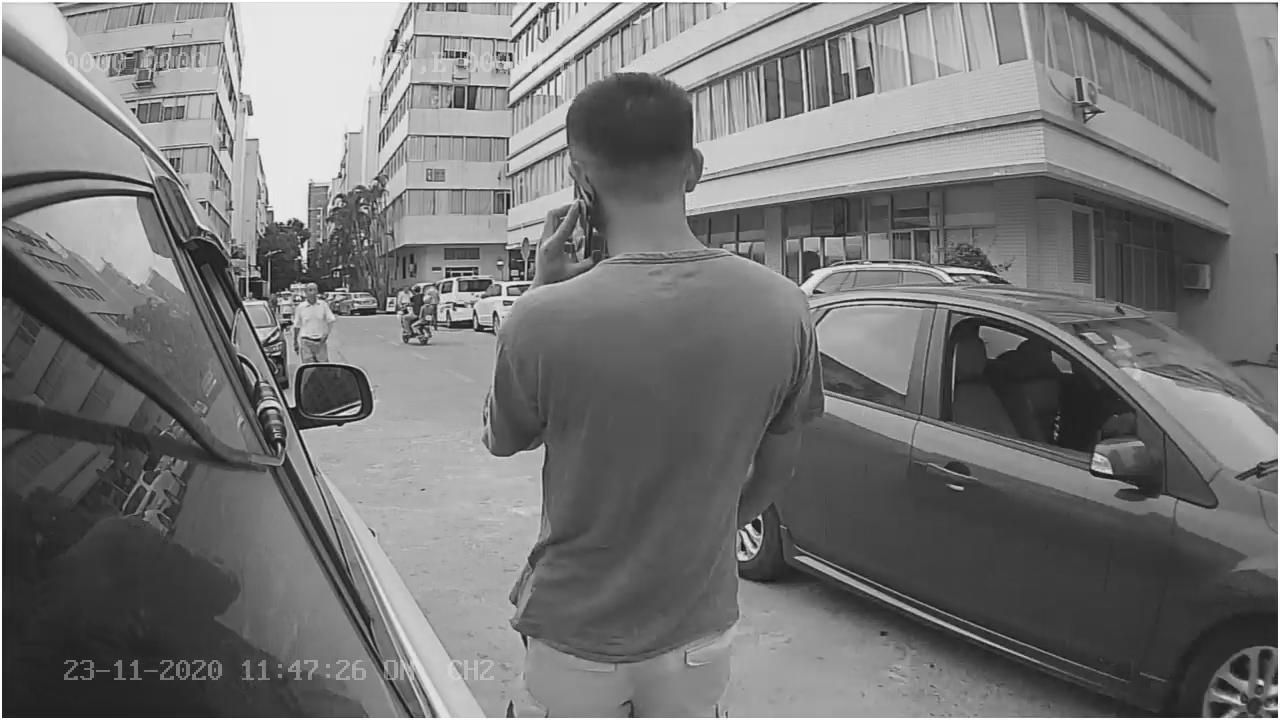person: (475, 66, 812, 539)
